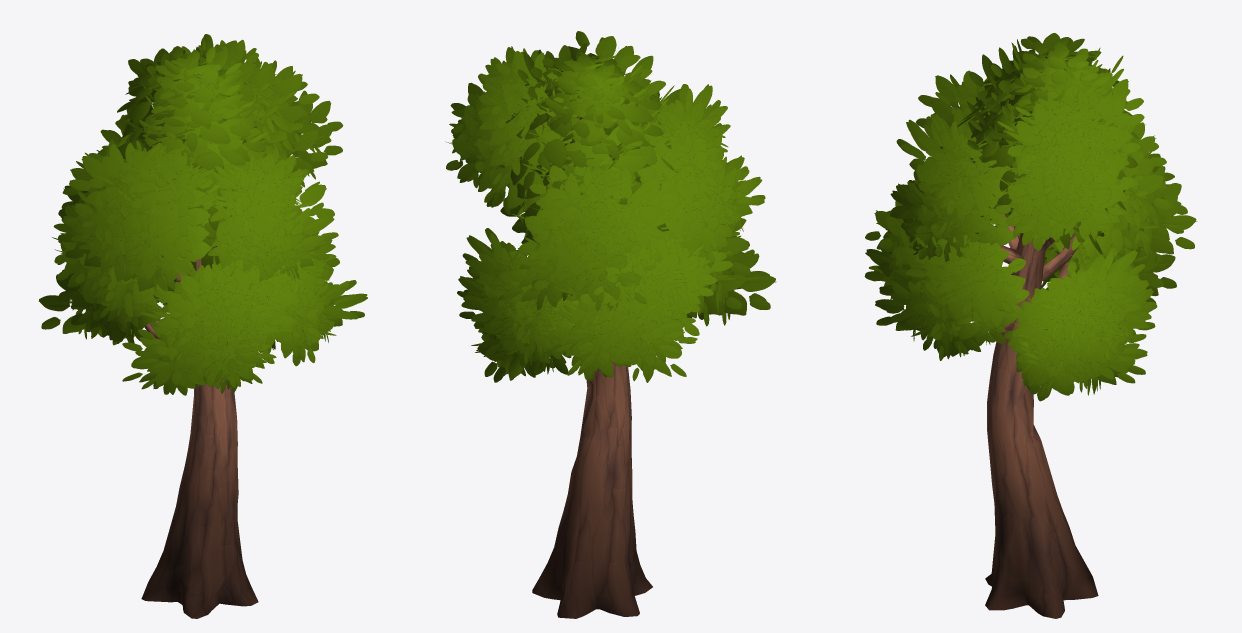
The model's file is nature-commontree-1.glb.
3 views of the same model, side by side, from view 1: azimuth 30°, elevation 25°; view 2: azimuth 150°, elevation 25°; view 3: azimuth 270°, elevation 25° (orthographic). The views are drawn at different scales.
Parts seen in each view (by area): view 1: CommonTree_1; view 2: CommonTree_1; view 3: CommonTree_1.
Part boxes in pixels (x1,y1,x2,y2): CommonTree_1: (38,34,367,618); CommonTree_1: (445,31,776,618); CommonTree_1: (864,33,1197,618).
Bounding box in the file's own units: 4.31 × 7.26 × 4.58.
Materials: 2 (2 with a texture image).
